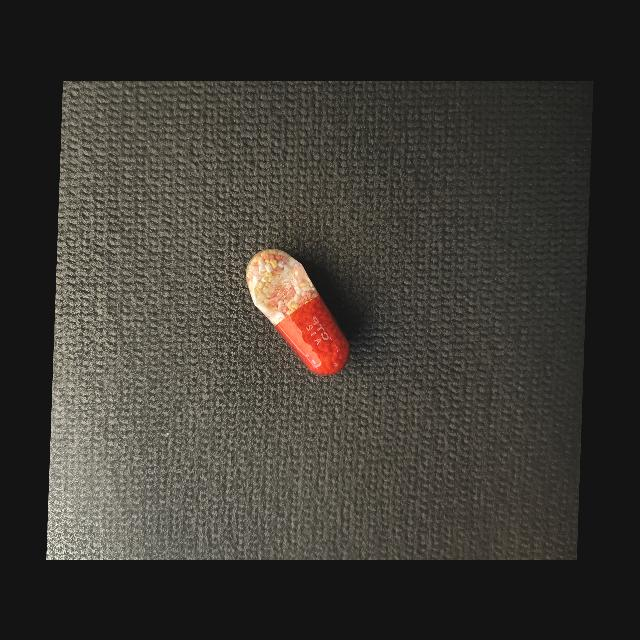Defective Capsule: (246, 248, 349, 375)
